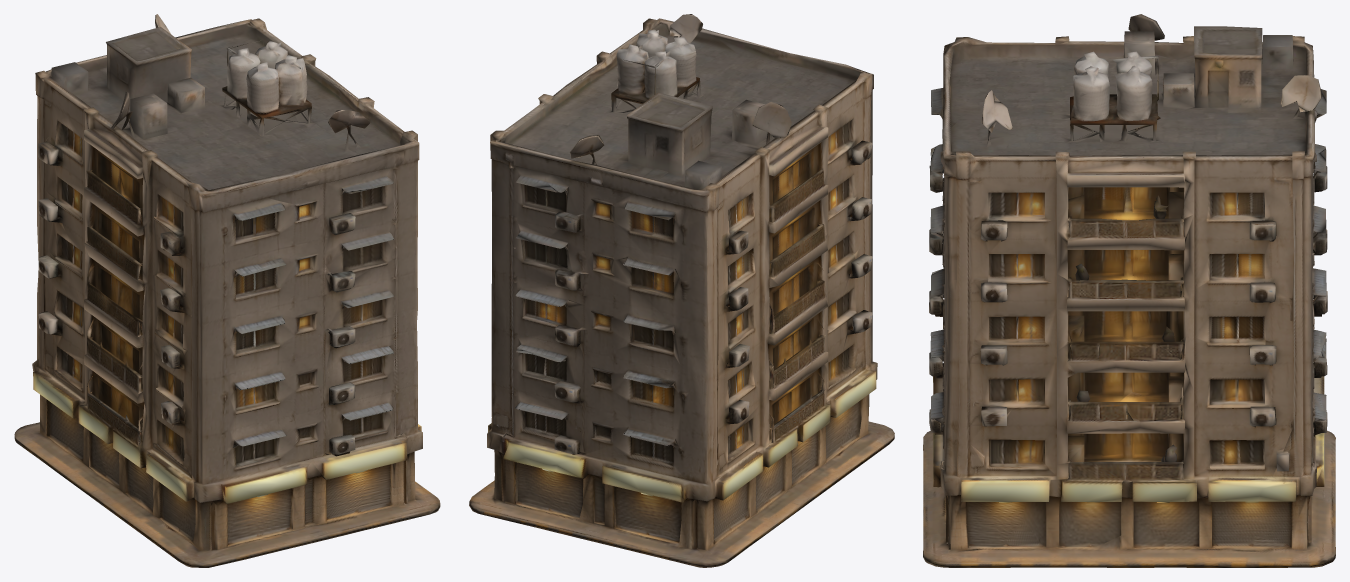
The model's file is midrise_shops.glb.
3 views of the same model, side by side, from view 1: azimuth 30°, elevation 25°; view 2: azimuth 150°, elevation 25°; view 3: azimuth 270°, elevation 25° (orthographic). The views are drawn at different scales.
Visible parts, largest first — view 1: tripo_node_610dbd16-a56e-4eb3-83aa-29e134053100; view 2: tripo_node_610dbd16-a56e-4eb3-83aa-29e134053100; view 3: tripo_node_610dbd16-a56e-4eb3-83aa-29e134053100.
Part boxes in pixels (x1,y1,x2,y2): tripo_node_610dbd16-a56e-4eb3-83aa-29e134053100: (14, 14, 440, 567); tripo_node_610dbd16-a56e-4eb3-83aa-29e134053100: (469, 14, 894, 567); tripo_node_610dbd16-a56e-4eb3-83aa-29e134053100: (923, 14, 1335, 567).
Bounding box in the file's own units: 0.6433 × 1 × 0.8191.
1 material, 1 textured.
